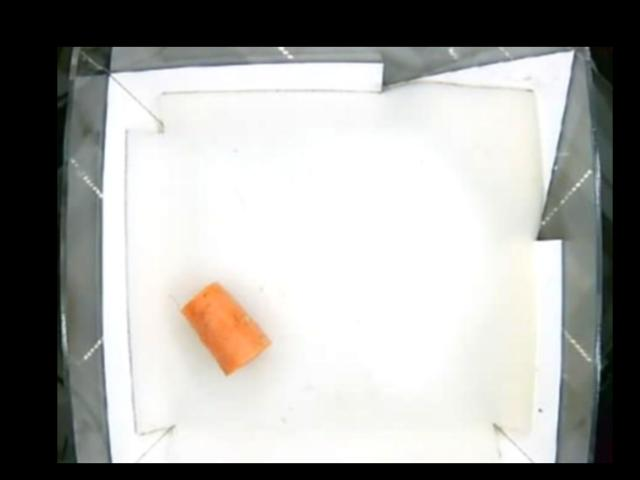Carrot: (181, 280, 273, 377)
